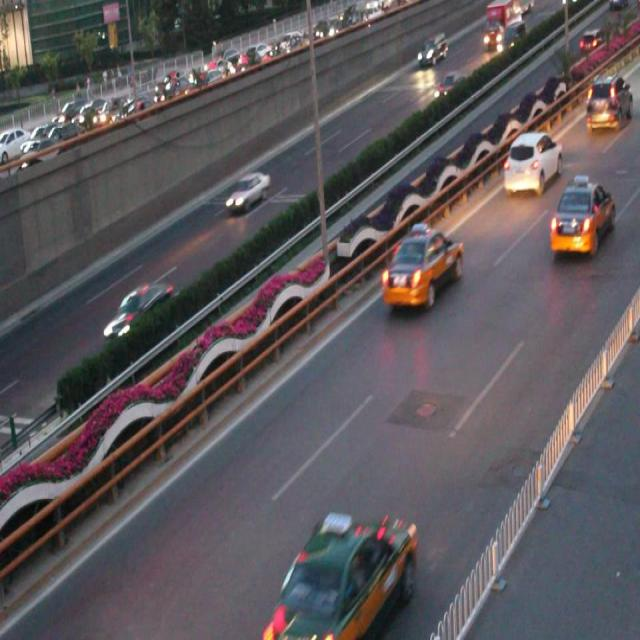car: (268, 509, 414, 640), (379, 221, 462, 310), (550, 178, 614, 255), (104, 280, 173, 343), (501, 128, 561, 196), (224, 171, 269, 212), (431, 70, 465, 102)
